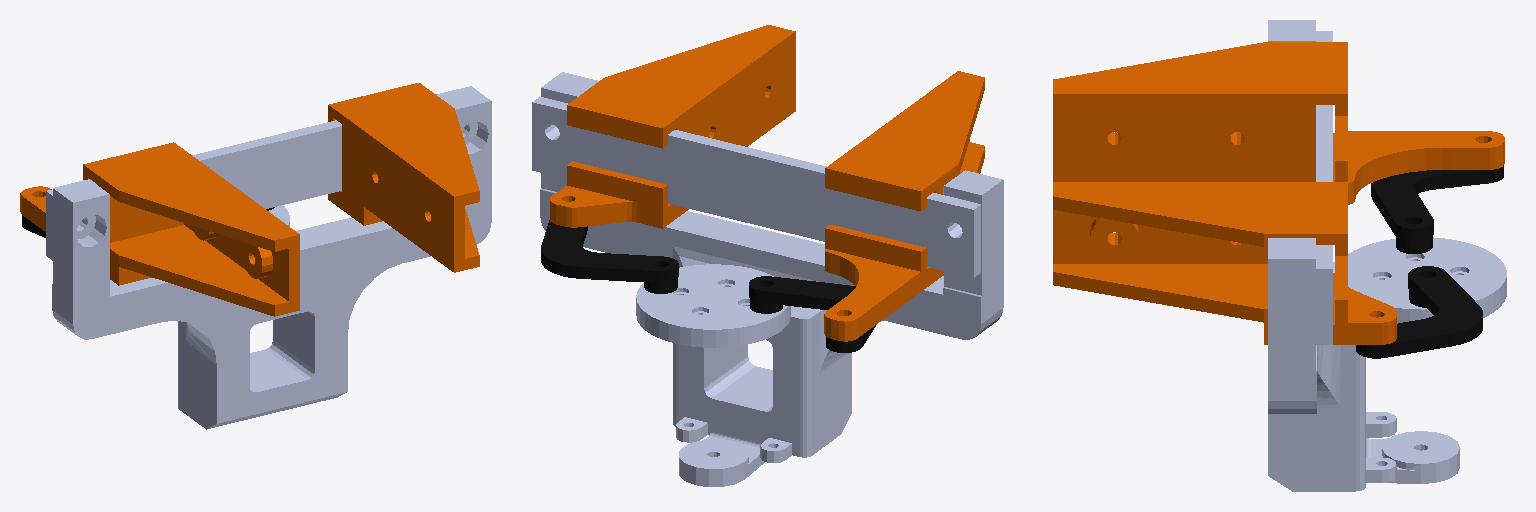
URDF robot description (linear_gripper):
<?xml version="1.0" encoding="utf-8"?>
<!-- This URDF was automatically created by SolidWorks to URDF Exporter! Originally created by [author] ([email redacted]) 
     Commit Version: 1.6.0-4-g7f85cfe  Build Version: 1.6.7995.38578
     For more information, please see http://wiki.ros.org/sw_urdf_exporter -->
<robot
  name="linear_gripper">

  <link name="world" />
  <joint name="world-base_link-fixed" type="fixed">
      <parent link="world" />
      <child link="base_garra" />
      <origin rpy="0.0 0.0 0.0" xyz="0.0 0.0 0.0" />
  </joint>
  
  <link
    name="base_garra">
    <inertial>
      <origin
        xyz="2.43400515935624E-05 -0.0222726851326523 -0.00468941271488052"
        rpy="0 0 0" />
      <mass
        value="0.0436302934538374" />
      <inertia
        ixx="1.27632292456254E-05"
        ixy="3.91715915406858E-12"
        ixz="-3.68663709229167E-11"
        iyy="4.68221472466098E-05"
        iyz="2.01653176853106E-06"
        izz="3.71475202993965E-05" />
    </inertial>
    <visual>
      <origin
        xyz="0 0 0"
        rpy="0 0 0" />
      <geometry>
        <mesh
          filename="package://archie_description/meshes/gripper/base_garra.STL" />
      </geometry>
      <material
        name="">
        <color
          rgba="0.792156862745098 0.819607843137255 0.933333333333333 1" />
      </material>
    </visual>
    <collision>
      <origin
        xyz="0 0 0"
        rpy="0 0 0" />
      <geometry>
        <mesh
          filename="package://archie_description/meshes/gripper/base_garra.STL" />
      </geometry>
    </collision>
  </link>
  <link
    name="crank_link">
    <inertial>
      <origin
        xyz="1.05026479379742E-14 3.47848114946994E-16 0.000467452621116676"
        rpy="0 0 0" />
      <mass
        value="0.00350851496756579" />
      <inertia
        ixx="3.19724320292965E-07"
        ixy="2.66160320937908E-09"
        ixz="6.0367591315158E-24"
        iyy="2.95209200964066E-07"
        iyz="-3.85767754058442E-23"
        izz="6.03810346826692E-07" />
    </inertial>
    <visual>
      <origin
        xyz="0 0 0"
        rpy="0 0 0" />
      <geometry>
        <mesh
          filename="package://archie_description/meshes/gripper/crank_link.STL" />
      </geometry>
      <material
        name="">
        <color
          rgba="0.792156862745098 0.819607843137255 0.933333333333333 1" />
      </material>
    </visual>
    <collision>
      <origin
        xyz="0 0 0"
        rpy="0 0 0" />
      <geometry>
        <mesh
          filename="package://archie_description/meshes/gripper/crank_link.STL" />
      </geometry>
    </collision>
  </link>
  <joint
    name="crank_joint"
    type="revolute">
    <origin
      xyz="0 0 0"
      rpy="0 0 0" />
    <parent
      link="base_garra" />
    <child
      link="crank_link" />
    <axis
      xyz="0 0 1" />
    <limit
      lower="0"
      upper="1.57"
      effort="0"
      velocity="0" />
  </joint>
  <link
    name="connector1_link">
    <inertial>
      <origin
        xyz="0.0164173228619063 0.000893610320964873 0.00406907236546323"
        rpy="0 0 0" />
      <mass
        value="0.00125402622472388" />
      <inertia
        ixx="4.20666799363896E-08"
        ixy="2.53680421569102E-08"
        ixz="-4.75428119507082E-09"
        iyy="1.50473930727253E-07"
        iyz="-2.58779996009099E-10"
        izz="1.8913300763271E-07" />
    </inertial>
    <visual>
      <origin
        xyz="0 0 0"
        rpy="0 0 0" />
      <geometry>
        <mesh
          filename="package://archie_description/meshes/gripper/connector1_link.STL" />
      </geometry>
      <material
        name="">
        <color
          rgba="0.101960784313725 0.101960784313725 0.101960784313725 1" />
      </material>
    </visual>
    <collision>
      <origin
        xyz="0 0 0"
        rpy="0 0 0" />
      <geometry>
        <mesh
          filename="package://archie_description/meshes/gripper/connector1_link.STL" />
      </geometry>
    </collision>
  </link>
  <joint
    name="connector1_joint"
    type="fixed">
    <origin
      xyz="0.012926 0.0013872 0.0025"
      rpy="0 0 0" />
    <parent
      link="crank_link" />
    <child
      link="connector1_link" />
    <axis
      xyz="0 0 -1" />
    <limit
      lower="0"
      upper="0"
      effort="0"
      velocity="0" />
  </joint>
  <link
    name="garra1_link">
    <inertial>
      <origin
        xyz="-0.0114365446427457 -0.0273254161497786 0.0126193151551262"
        rpy="0 0 0" />
      <mass
        value="0.0129151722919399" />
      <inertia
        ixx="4.56136669016415E-06"
        ixy="-7.57893155901127E-07"
        ixz="1.30678714130048E-07"
        iyy="1.56497753313465E-06"
        iyz="4.70140142051799E-07"
        izz="4.37741925701727E-06" />
    </inertial>
    <visual>
      <origin
        xyz="0 0 0"
        rpy="0 0 0" />
      <geometry>
        <mesh
          filename="package://archie_description/meshes/gripper/garra1_link.STL" />
      </geometry>
      <material
        name="">
        <color
          rgba="0.909803921568627 0.443137254901961 0.0313725490196078 1" />
      </material>
    </visual>
    <collision>
      <origin
        xyz="0 0 0"
        rpy="0 0 0" />
      <geometry>
        <mesh
          filename="package://archie_description/meshes/gripper/garra1_link.STL" />
      </geometry>
    </collision>
  </link>
  <joint
    name="garra1_joint"
    type="fixed">
    <origin
      xyz="0.030052 -0.010387 0.0058"
      rpy="0 0 0" />
    <parent
      link="connector1_link" />
    <child
      link="garra1_link" />
    <axis
      xyz="0 0 -1" />
    <limit
      lower="0"
      upper="0"
      effort="0"
      velocity="0" />
  </joint>
  <link
    name="connector2_link">
    <inertial>
      <origin
        xyz="-0.0163971359223257 0.00120870298352432 0.00406907236546324"
        rpy="0 0 0" />
      <mass
        value="0.00125402622472388" />
      <inertia
        ixx="5.02534840731669E-08"
        ixy="3.82625499690246E-08"
        ixz="4.74843527317406E-09"
        iyy="1.42287126590476E-07"
        iyz="-3.50027462658348E-10"
        izz="1.8913300763271E-07" />
    </inertial>
    <visual>
      <origin
        xyz="0 0 0"
        rpy="0 0 0" />
      <geometry>
        <mesh
          filename="package://archie_description/meshes/gripper/connector2_link.STL" />
      </geometry>
      <material
        name="">
        <color
          rgba="0.101960784313725 0.101960784313725 0.101960784313725 1" />
      </material>
    </visual>
    <collision>
      <origin
        xyz="0 0 0"
        rpy="0 0 0" />
      <geometry>
        <mesh
          filename="package://archie_description/meshes/gripper/connector2_link.STL" />
      </geometry>
    </collision>
  </link>
  <joint
    name="connector2_joint"
    type="fixed">
    <origin
      xyz="-0.012926 -0.0013872 0.0025"
      rpy="0 0 0" />
    <parent
      link="crank_link" />
    <child
      link="connector2_link" />
    <axis
      xyz="0 0 -1" />
    <limit
      lower="0"
      upper="0"
      effort="0"
      velocity="0" />
  </joint>
  <link
    name="garra2_link">
    <inertial>
      <origin
        xyz="0.0107138733533343 -0.0461502259428729 0.0118413499297606"
        rpy="0 0 0" />
      <mass
        value="0.0139907716479628" />
      <inertia
        ixx="6.18149224790953E-06"
        ixy="1.14234373139681E-06"
        ixz="-2.2512730807088E-07"
        iyy="1.7849809657204E-06"
        iyz="8.52444326235767E-07"
        izz="6.00971716825658E-06" />
    </inertial>
    <visual>
      <origin
        xyz="0 0 0"
        rpy="0 0 0" />
      <geometry>
        <mesh
          filename="package://archie_description/meshes/gripper/garra2_link.STL" />
      </geometry>
      <material
        name="">
        <color
          rgba="0.909803921568627 0.443137254901961 0.0313725490196078 1" />
      </material>
    </visual>
    <collision>
      <origin
        xyz="0 0 0"
        rpy="0 0 0" />
      <geometry>
        <mesh
          filename="package://archie_description/meshes/gripper/garra2_link.STL" />
      </geometry>
    </collision>
  </link>
  <joint
    name="garra2_joint"
    type="fixed">
    <origin
      xyz="-0.028481 0.014137 0.0058"
      rpy="0 0 0" />
    <parent
      link="connector2_link" />
    <child
      link="garra2_link" />
    <axis
      xyz="0 0 -1" />
    <limit
      lower="0"
      upper="0"
      effort="0"
      velocity="0" />
  </joint>
</robot>

--- What the picture shows (computed from the rendered views, not written in the file) ---
3 views of the same robot in one strip: view 1: azimuth 30°, elevation 25°; view 2: azimuth 150°, elevation 25°; view 3: azimuth 270°, elevation 25° (orthographic).
Robot: linear_gripper — 7 links, 6 joints (1 revolute, 5 fixed); root link world; default pose: every joint at zero.
Visible links, largest first — view 1: base_garra, garra2_link, garra1_link; view 2: base_garra, garra1_link, garra2_link, crank_link, connector1_link, connector2_link; view 3: garra2_link, garra1_link, base_garra, crank_link, connector1_link, connector2_link.
Link boxes in pixels (box(x1,y1,x2,y2)): base_garra: box(46, 86, 491, 429); garra2_link: box(20, 142, 299, 316); garra1_link: box(328, 83, 479, 272); base_garra: box(532, 72, 1003, 486); garra1_link: box(550, 25, 795, 228); garra2_link: box(824, 71, 984, 341); crank_link: box(636, 264, 790, 347); connector1_link: box(541, 220, 678, 293); connector2_link: box(749, 276, 875, 352); garra2_link: box(1053, 42, 1504, 204); garra1_link: box(1053, 182, 1396, 344); base_garra: box(1268, 20, 1459, 491); crank_link: box(1348, 237, 1506, 323); connector1_link: box(1356, 266, 1482, 358); connector2_link: box(1371, 165, 1503, 253).
Bounding box of the posed robot: 0.1151 × 0.0925 × 0.0745 m (x, y, z).
6 mesh visuals loaded from 6 distinct referenced files (6 binary STL).
